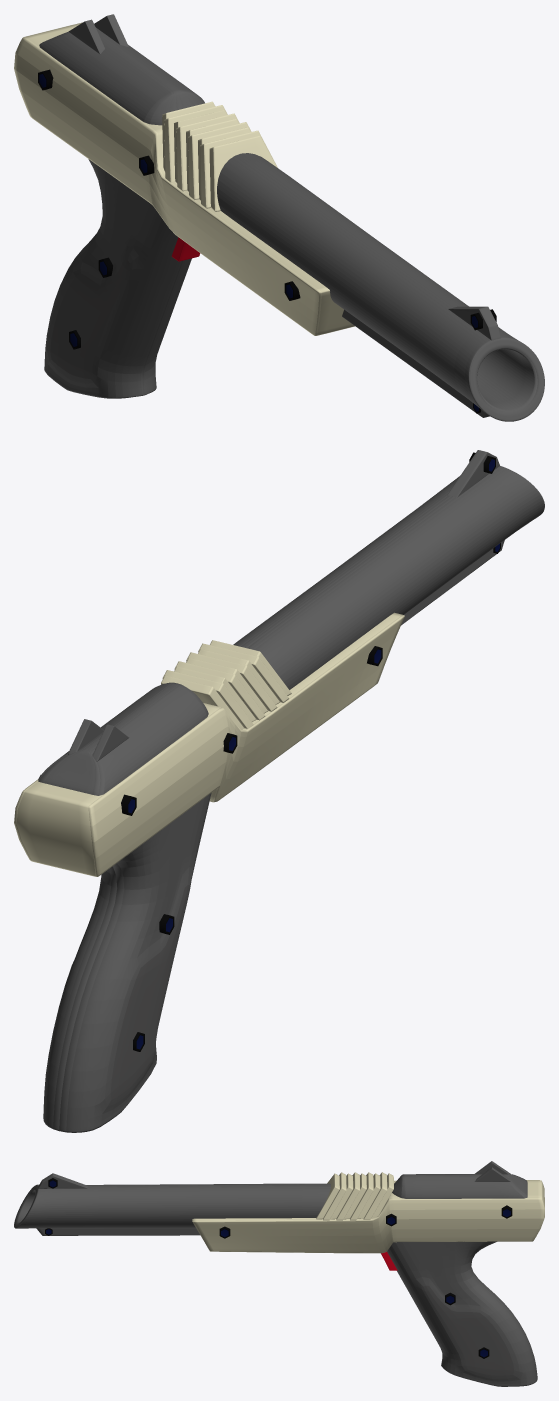
The picture shows the model from 3 angles, top to bottom: view 1: azimuth 30°, elevation 25°; view 2: azimuth 150°, elevation 25°; view 3: azimuth 270°, elevation 25°; orthographic projection. The views are drawn at different scales.
Visible parts, largest first — view 1: Cylinder.013_grey_plastic_0, Cylinder.013_light_grey.001_0, Cylinder.013_grip_0, Cylinder.013_bolt_0, Cylinder.013_bolt_blue_0; view 2: Cylinder.013_grey_plastic_0, Cylinder.013_light_grey.001_0, Cylinder.013_grip_0, Cylinder.013_bolt_0; view 3: Cylinder.013_grey_plastic_0, Cylinder.013_light_grey.001_0, Cylinder.013_grip_0, Cylinder.013_bolt_0, Cylinder.013_bolt_blue_0.
Boxes of the visible parts, x1,y1,x2,y2 form: Cylinder.013_grey_plastic_0: (39, 14, 544, 421); Cylinder.013_light_grey.001_0: (14, 22, 354, 335); Cylinder.013_grip_0: (50, 258, 129, 378); Cylinder.013_bolt_0: (38, 69, 496, 413); Cylinder.013_bolt_blue_0: (39, 74, 478, 411); Cylinder.013_grey_plastic_0: (38, 450, 544, 1132); Cylinder.013_light_grey.001_0: (14, 612, 404, 876); Cylinder.013_grip_0: (110, 885, 189, 1099); Cylinder.013_bolt_0: (39, 452, 500, 1051); Cylinder.013_grey_plastic_0: (14, 1161, 537, 1386); Cylinder.013_light_grey.001_0: (192, 1172, 544, 1253); Cylinder.013_grip_0: (423, 1285, 514, 1375); Cylinder.013_bolt_0: (45, 1178, 512, 1358); Cylinder.013_bolt_blue_0: (46, 1180, 510, 1357).
Size of the model in its own units: 0.2114 by 0.8144 by 1.83.
